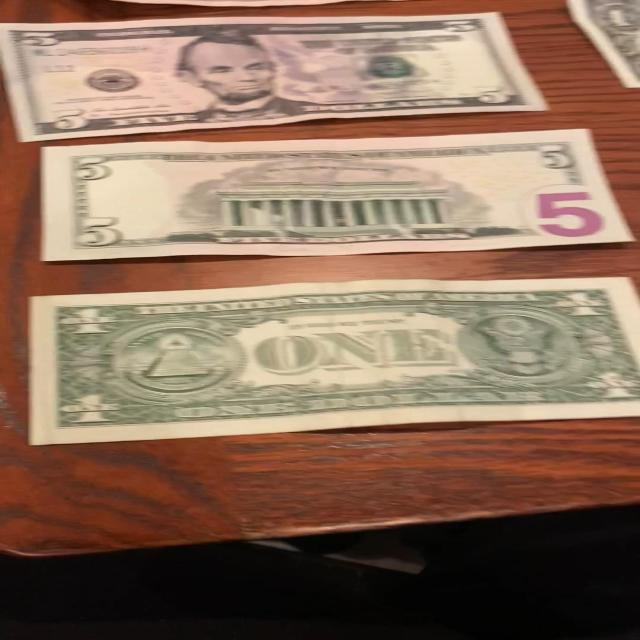1-Back: (28, 276, 640, 450)
5-Back: (34, 125, 640, 264)
5-Front: (0, 11, 552, 143)
